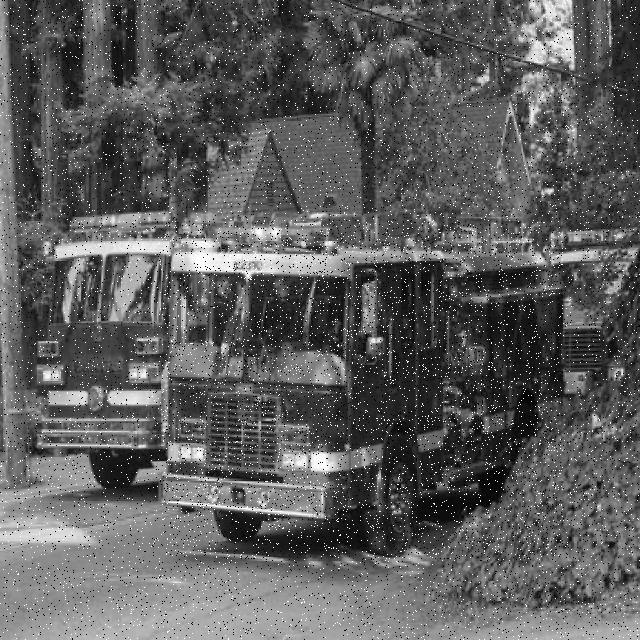Fire Truck: (162, 220, 563, 559)
